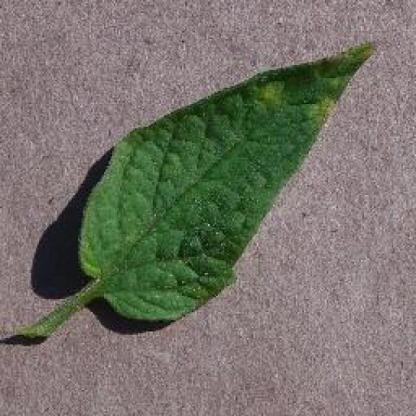Tomato_Leaf_Mold: (79, 43, 374, 280)
